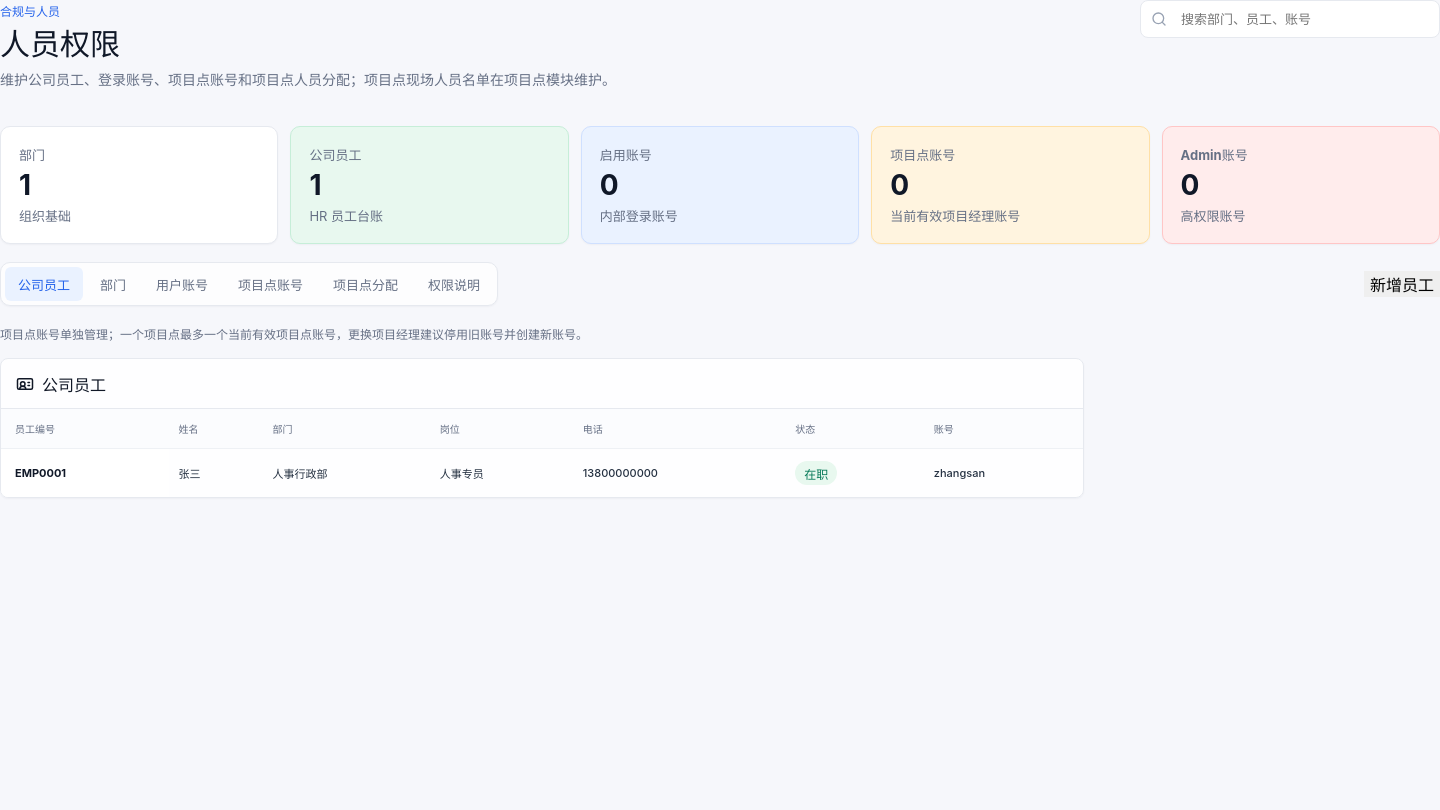
Scenario: 人员权限/项目点 保存反馈 › 部门保存成功后弹出 toast
Expected: the text "EMP0001" is shown, [1, 449, 169, 498]
Click the tab "部门". click: [113, 284]
box: [87, 268, 139, 302]
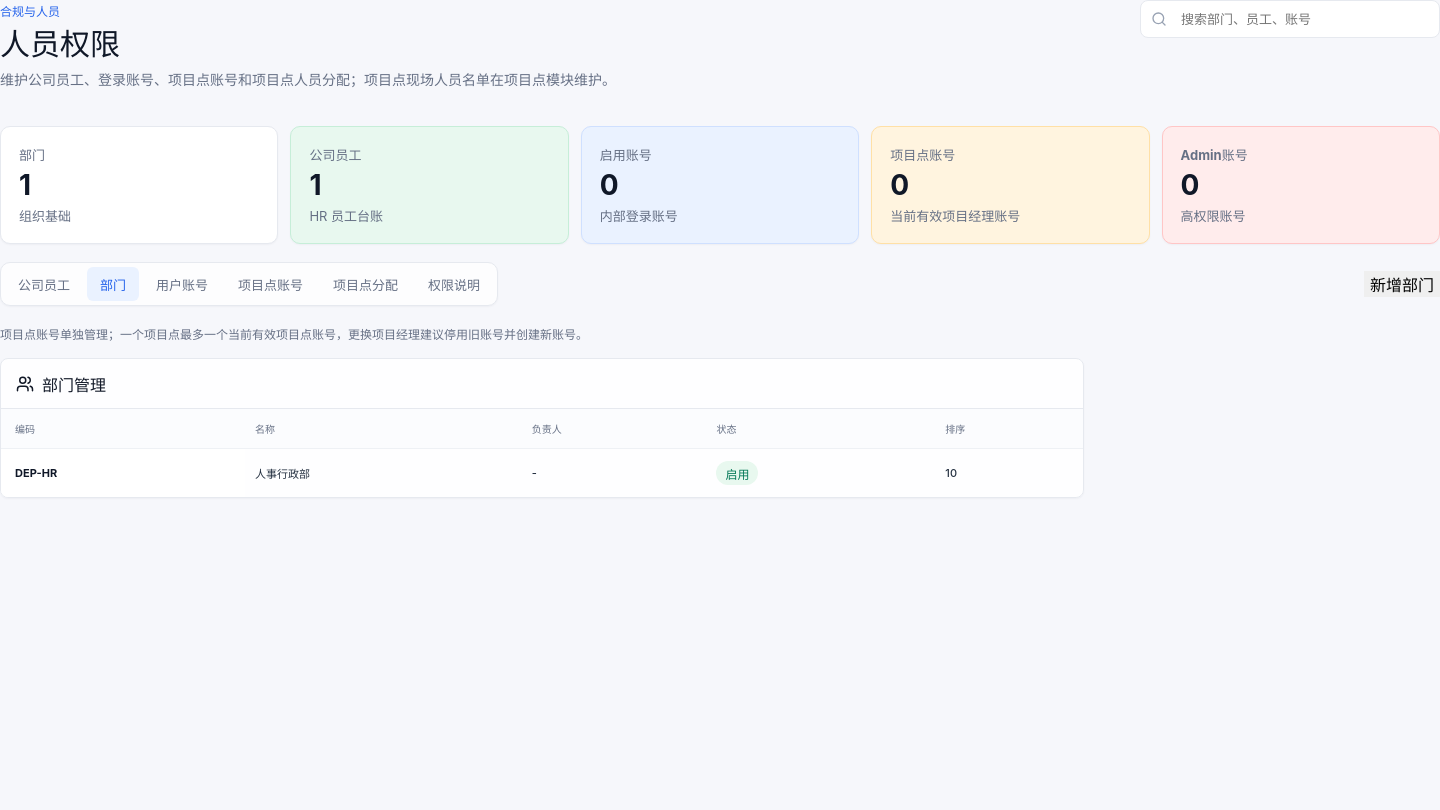
Click the button "新增部门". click: [1402, 284]
box: [1364, 272, 1439, 298]
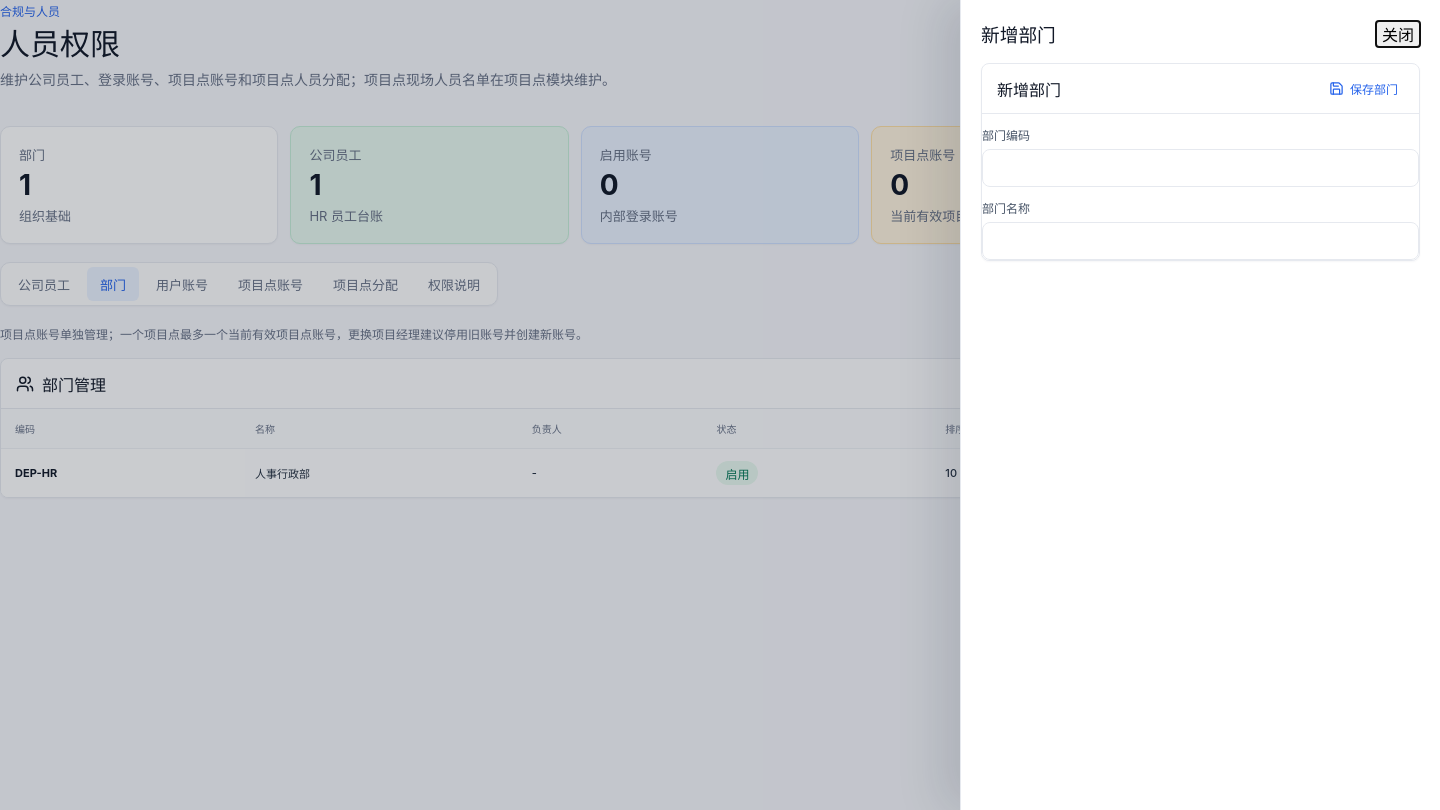
Type "DEP-WH" into the field labelled "部门编码". click: [1200, 168]
box: [982, 149, 1419, 187]
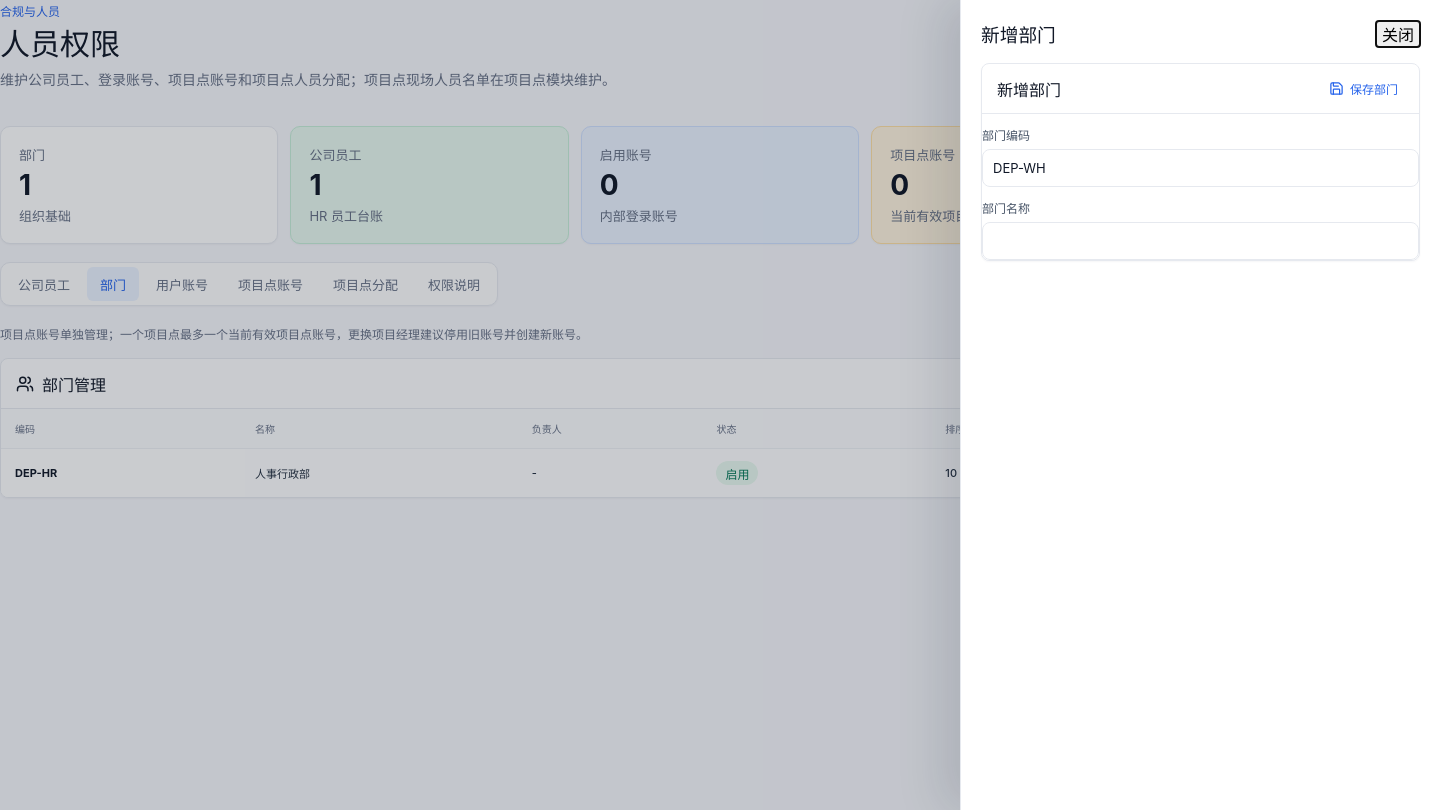
Type "仓储部" into the field labelled "部门名称". click: [1200, 241]
box: [982, 222, 1419, 260]
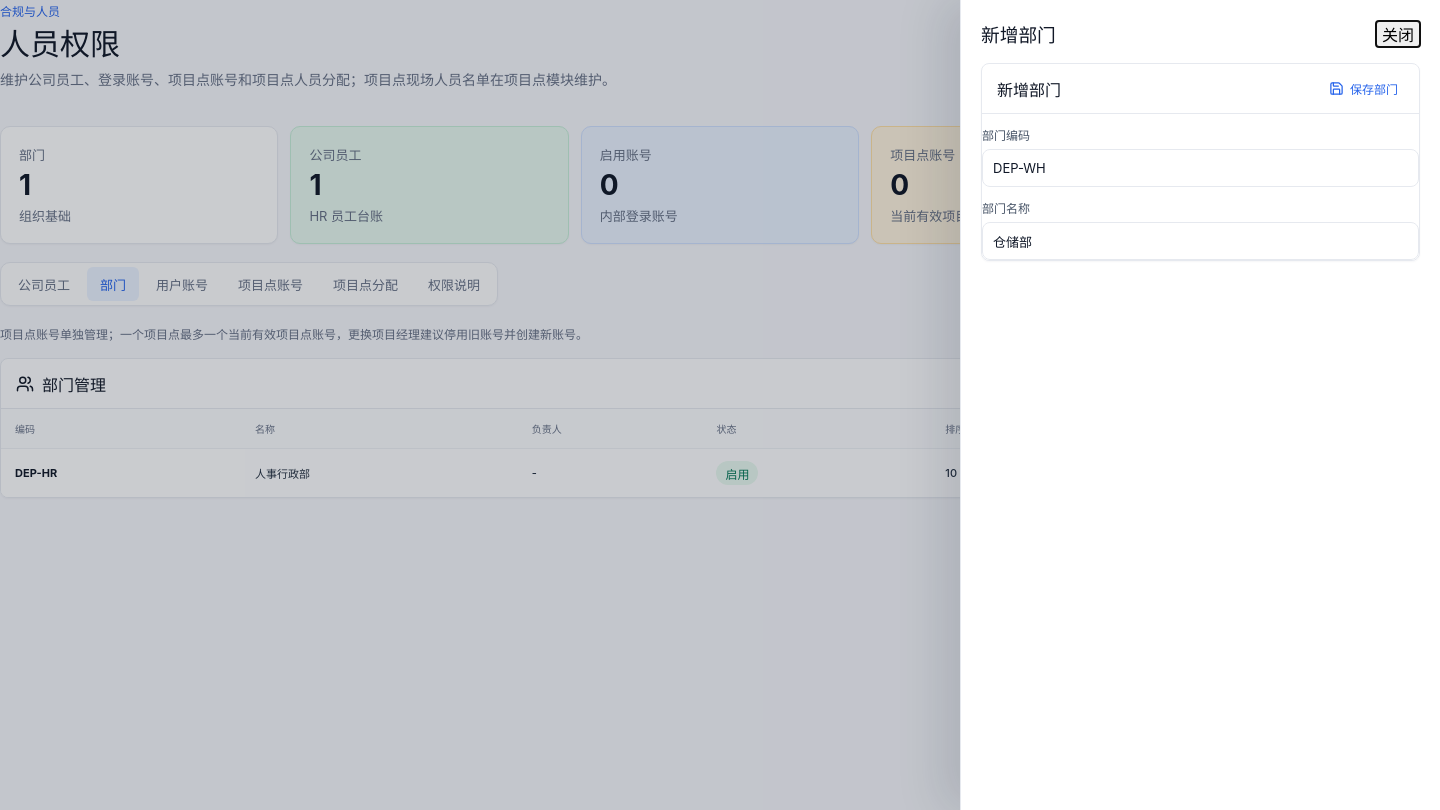
Click the button "保存部门". click: [1364, 88]
box: [1323, 79, 1404, 98]
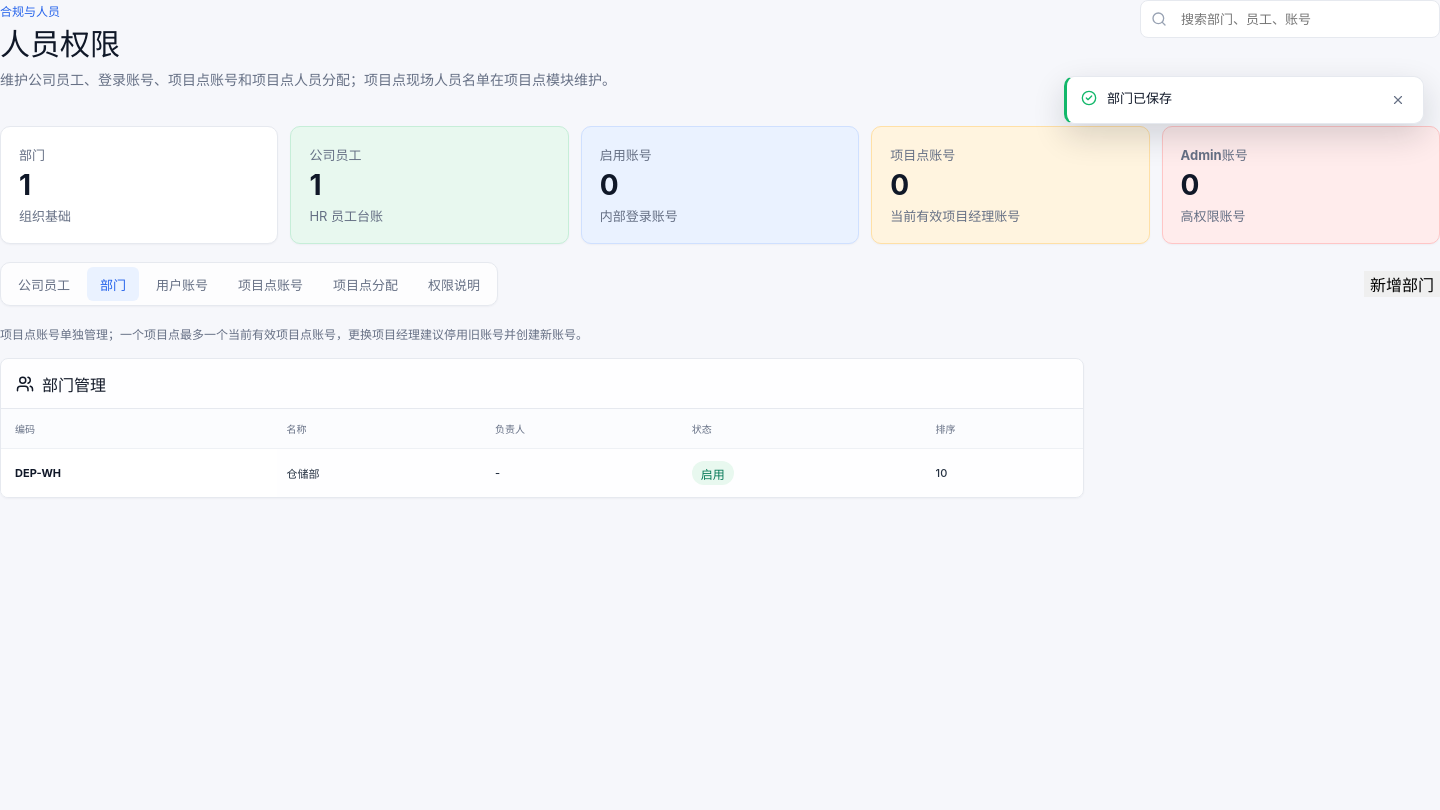
Result: the message reads "部门已保存" at [1107, 90, 1172, 106]
